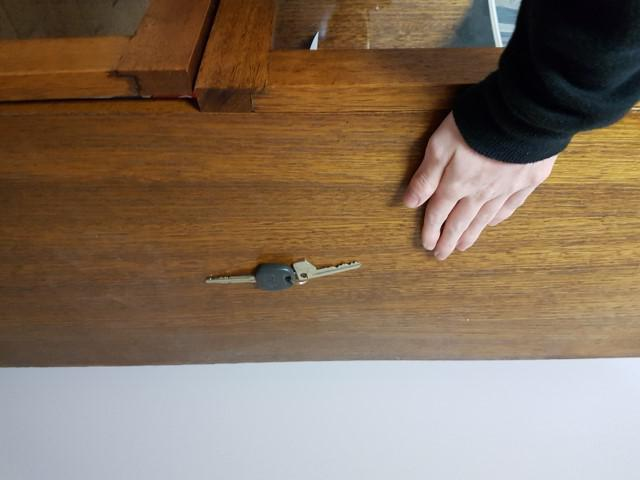key: (203, 264, 295, 290)
